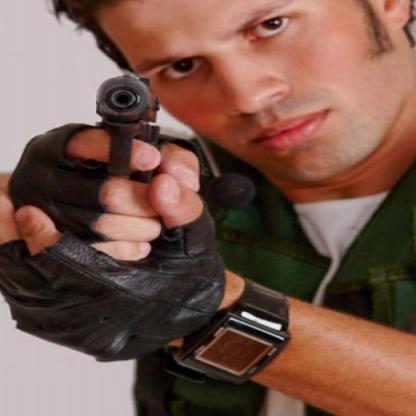gun: (94, 70, 162, 183)
